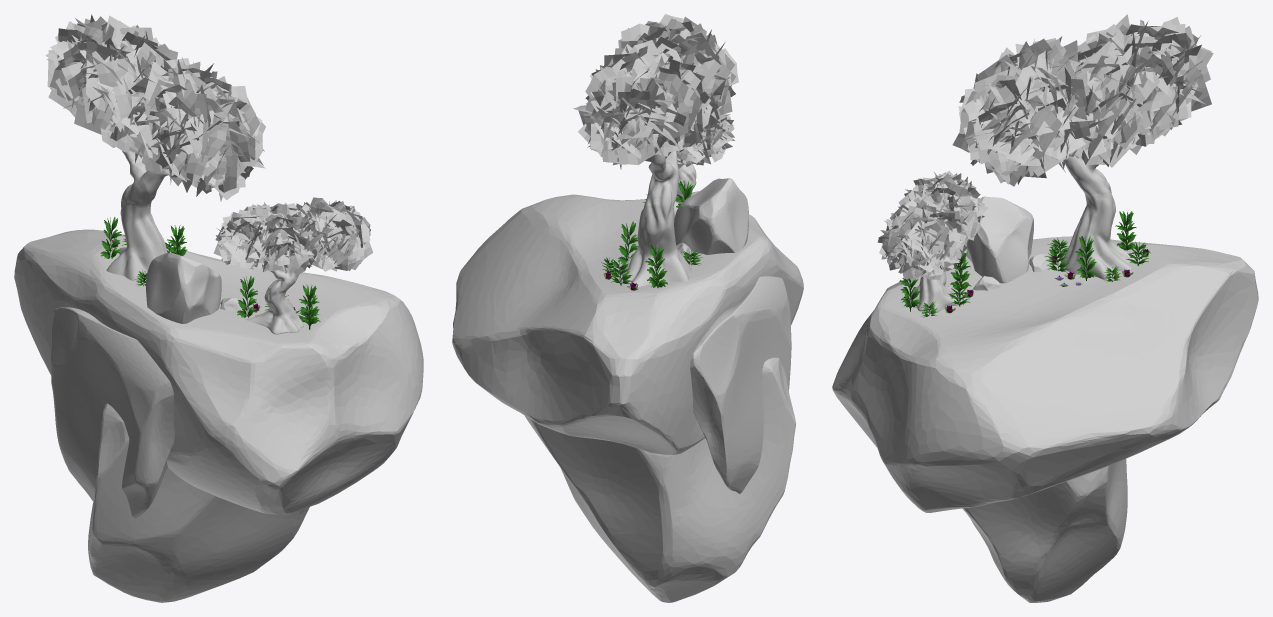
File: isla montada.fbx
3 views of the same model, side by side, from view 1: azimuth 30°, elevation 25°; view 2: azimuth 150°, elevation 25°; view 3: azimuth 270°, elevation 25° (orthographic). The views are drawn at different scales.
Visible parts, largest first — view 1: lowrock, hoja.002, lowrock.001, lowrock.002, hoja.001, lowrock.003, Arbol.001, Arbol; view 2: lowrock, lowrock.001, hoja.002, lowrock.002, Arbol.001, lowrock.003, hoja.001, Plane.032, Arbol; view 3: lowrock, hoja.002, lowrock.001, hoja.001, Arbol.001, lowrock.003, Arbol, Plane.030.
Part boxes in pixels (box(x1,y1,x2,y2)): lowrock: box(14, 229, 423, 514); hoja.002: box(45, 14, 265, 201); lowrock.001: box(88, 403, 309, 602); lowrock.002: box(50, 307, 174, 518); hoja.001: box(213, 197, 373, 275); lowrock.003: box(145, 252, 221, 323); Arbol.001: box(106, 151, 168, 281); Arbol: box(246, 269, 303, 334); lowrock: box(452, 191, 803, 454); lowrock.001: box(524, 357, 795, 602); hoja.002: box(573, 14, 738, 169); lowrock.002: box(690, 276, 791, 493); Arbol.001: box(618, 151, 691, 287); lowrock.003: box(674, 178, 748, 254); hoja.001: box(676, 113, 734, 168); Plane.032: box(645, 244, 667, 287); Arbol: box(673, 164, 696, 219); lowrock: box(832, 236, 1258, 512); hoja.002: box(952, 14, 1213, 186); lowrock.001: box(962, 459, 1127, 602); hoja.001: box(877, 170, 988, 281); Arbol.001: box(1061, 155, 1141, 279); lowrock.003: box(966, 196, 1033, 283); Arbol: box(909, 271, 958, 312); Plane.030: box(1075, 236, 1097, 280).
Size of the model in its own units: 2715 by 4617 by 3146.
